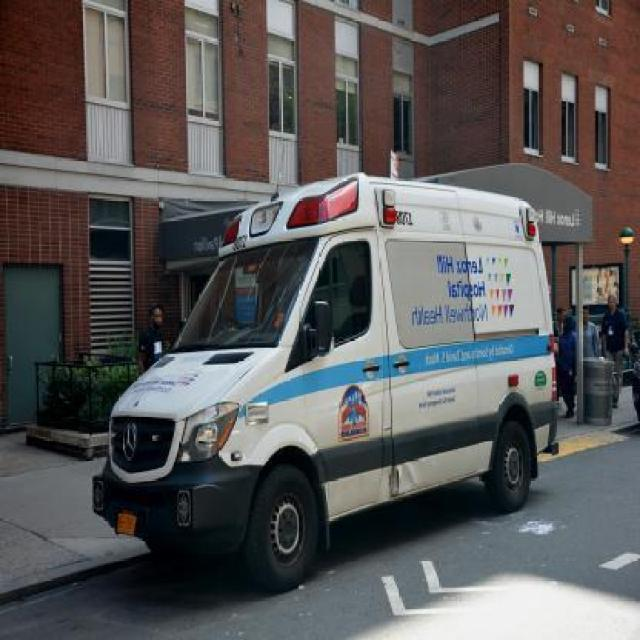emergency: (90, 171, 562, 591)
